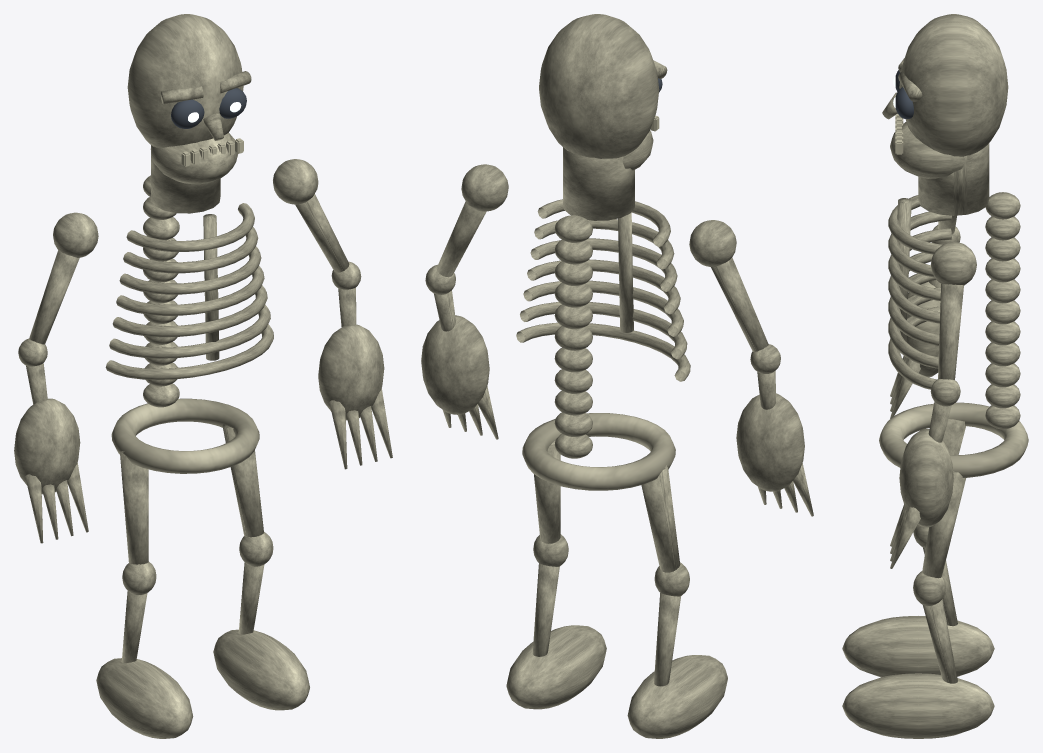
Rendered from enemy_ice_skeleton.glb.
The picture shows the model from 3 angles, left to right: view 1: azimuth 30°, elevation 25°; view 2: azimuth 150°, elevation 25°; view 3: azimuth 270°, elevation 25°; orthographic projection. The views are drawn at different scales.
Parts seen in each view (by area): view 1: Aged_bone, Aged_bone.005, Aged_bone.002, Aged_bone.004, Aged_bone.001, Aged_bone.003, Eye_socket; view 2: Aged_bone, Aged_bone.005, Aged_bone.002, Aged_bone.001, Aged_bone.004, Aged_bone.003; view 3: Aged_bone, Aged_bone.005, Aged_bone.003, Aged_bone.004, Aged_bone.001, Aged_bone.002, Eye_socket.
Part boxes in pixels (left/top/right/bottom): Aged_bone: left=105, top=175, right=273, bottom=473; Aged_bone.005: left=127, top=14, right=251, bottom=213; Aged_bone.002: left=14, top=212, right=98, bottom=543; Aged_bone.004: left=273, top=159, right=392, bottom=469; Aged_bone.001: left=96, top=451, right=193, bottom=738; Aged_bone.003: left=213, top=424, right=309, bottom=710; Eye_socket: left=171, top=88, right=246, bottom=128; Aged_bone: left=516, top=199, right=690, bottom=490; Aged_bone.005: left=539, top=14, right=667, bottom=220; Aged_bone.002: left=689, top=220, right=813, bottom=516; Aged_bone.001: left=627, top=465, right=727, bottom=738; Aged_bone.004: left=421, top=164, right=508, bottom=439; Aged_bone.003: left=506, top=440, right=606, bottom=709; Aged_bone: left=879, top=192, right=1028, bottom=477; Aged_bone.005: left=882, top=14, right=1008, bottom=215; Aged_bone.003: left=842, top=471, right=994, bottom=738; Aged_bone.004: left=890, top=242, right=976, bottom=568; Aged_bone.001: left=842, top=419, right=994, bottom=677; Aged_bone.002: left=890, top=215, right=960, bottom=418; Eye_socket: left=895, top=70, right=913, bottom=119.
Size of the model in its own units: 1.55 by 2.77 by 0.6795.
Materials: 3 (1 with a texture image).
